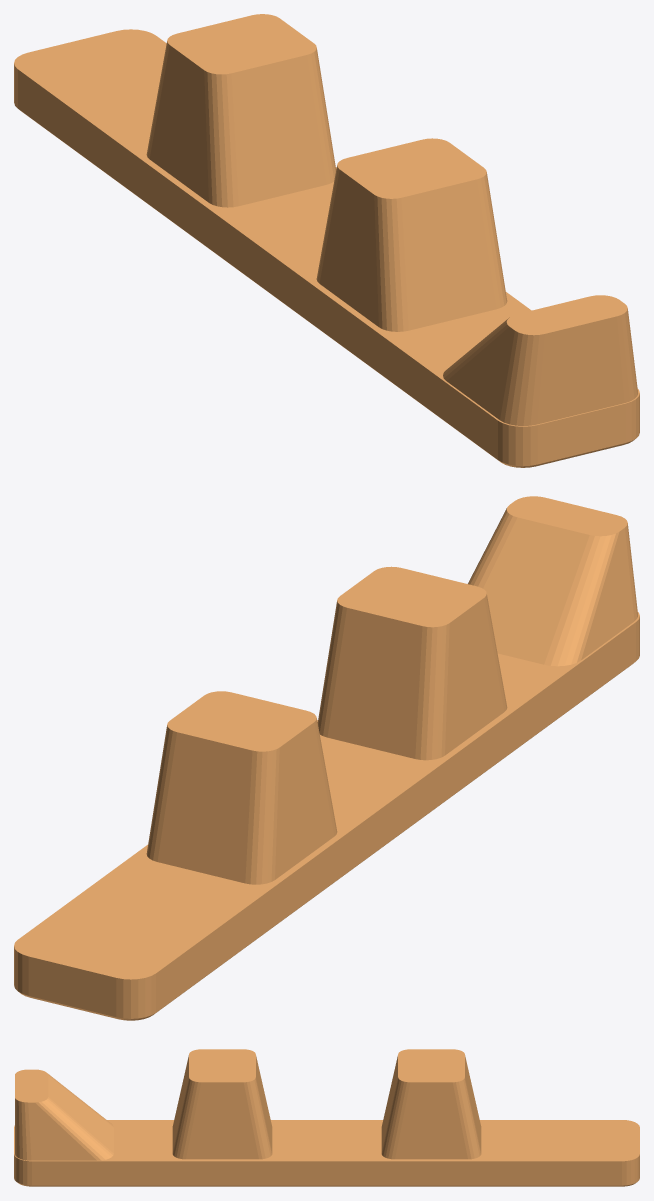
File: kit-skid-runner.glb
3 views of the same model, one above another, from view 1: azimuth 30°, elevation 25°; view 2: azimuth 150°, elevation 25°; view 3: azimuth 270°, elevation 25° (orthographic). The views are drawn at different scales.
Visible parts, largest first — view 1: kit-skid-runner; view 2: kit-skid-runner; view 3: kit-skid-runner.
Boxes of the visible parts, left/top/right/bottom form: kit-skid-runner: left=14, top=14, right=639, bottom=467; kit-skid-runner: left=14, top=496, right=639, bottom=1020; kit-skid-runner: left=14, top=1049, right=639, bottom=1186.
Size of the model in its own units: 0.0176 by 0.02 by 0.1123.
